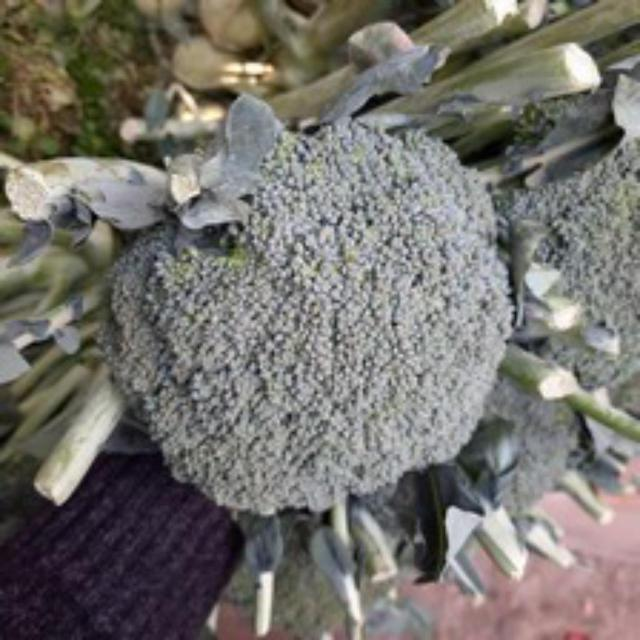broccoli: (115, 110, 518, 530)
